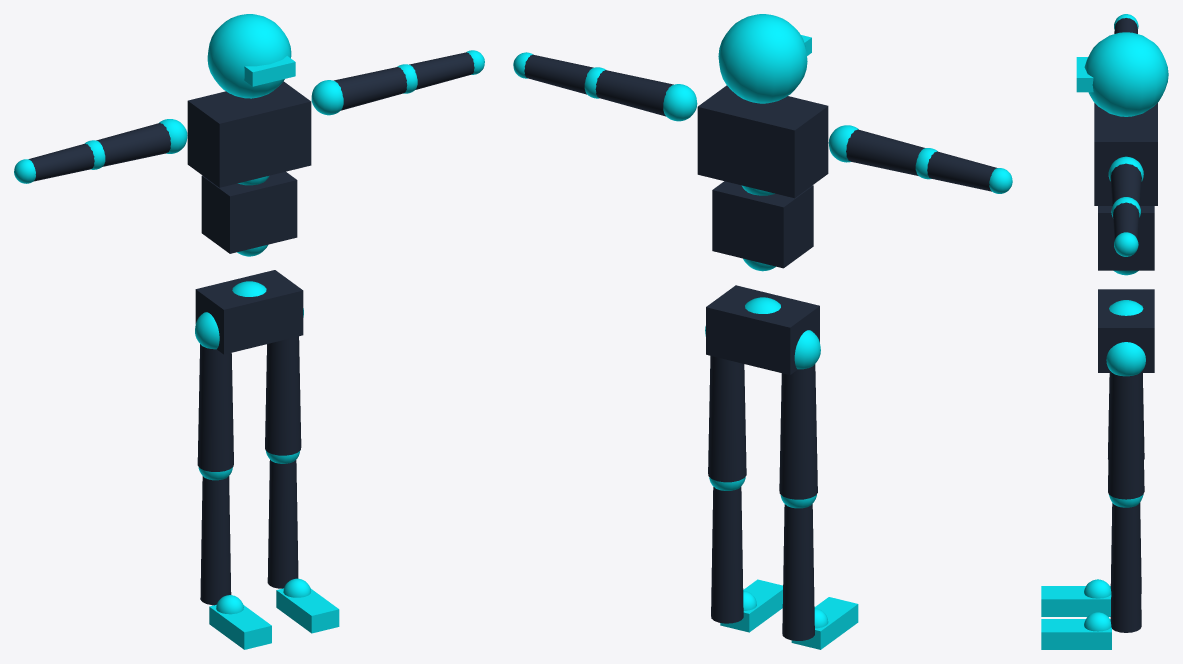
Rendered from character.glb.
The picture shows the model from 3 angles, left to right: view 1: azimuth 30°, elevation 25°; view 2: azimuth 150°, elevation 25°; view 3: azimuth 270°, elevation 25°; orthographic projection. The views are drawn at different scales.
Visible parts, largest first — view 1: Chest, Hips, Spine, Head, RightUpLeg, LeftUpLeg, LeftLeg, RightLeg, LeftArm, RightArm, LeftFoot, RightFoot (+2 smaller); view 2: Chest, Hips, Spine, Head, RightUpLeg, LeftUpLeg, RightLeg, LeftLeg, LeftArm, RightArm, RightForeArm, LeftForeArm (+2 smaller); view 3: Head, LeftUpLeg, Chest, LeftLeg, Hips, Spine, LeftFoot, RightFoot, LeftArm, LeftForeArm, LeftHand, RightForeArm (+2 smaller).
Part boxes in pixels (box(x1,y1,x2,y2)): Chest: box(187, 81, 311, 187); Hips: box(195, 270, 303, 354); Spine: box(201, 171, 297, 256); Head: box(207, 14, 295, 98); RightUpLeg: box(195, 312, 233, 471); LeftUpLeg: box(265, 308, 303, 455); LeftLeg: box(265, 450, 299, 588); RightLeg: box(198, 467, 232, 605); LeftArm: box(311, 67, 407, 115); RightArm: box(96, 119, 187, 166); LeftFoot: box(276, 578, 339, 633); RightFoot: box(209, 595, 271, 649); Chest: box(697, 85, 828, 198); Hips: box(706, 285, 819, 374); Spine: box(712, 181, 813, 271); Head: box(718, 14, 811, 103); RightUpLeg: box(779, 330, 820, 499); LeftUpLeg: box(705, 326, 746, 482); RightLeg: box(780, 494, 816, 640); LeftLeg: box(709, 477, 745, 623); LeftArm: box(595, 70, 697, 121); RightArm: box(828, 125, 925, 175); RightForeArm: box(915, 148, 997, 191); LeftForeArm: box(524, 54, 605, 98); Head: box(1076, 32, 1168, 116); LeftUpLeg: box(1106, 342, 1145, 499); Chest: box(1094, 103, 1157, 205); LeftLeg: box(1108, 494, 1143, 632); Hips: box(1098, 289, 1154, 372); Spine: box(1098, 206, 1154, 275); LeftFoot: box(1041, 612, 1111, 649); RightFoot: box(1041, 579, 1111, 616); LeftArm: box(1108, 156, 1143, 206); LeftForeArm: box(1111, 197, 1140, 240); LeftHand: box(1114, 232, 1138, 256); RightForeArm: box(1114, 18, 1137, 33).
Bounding box in the file's own units: 1.53 × 1.84 × 0.36.
